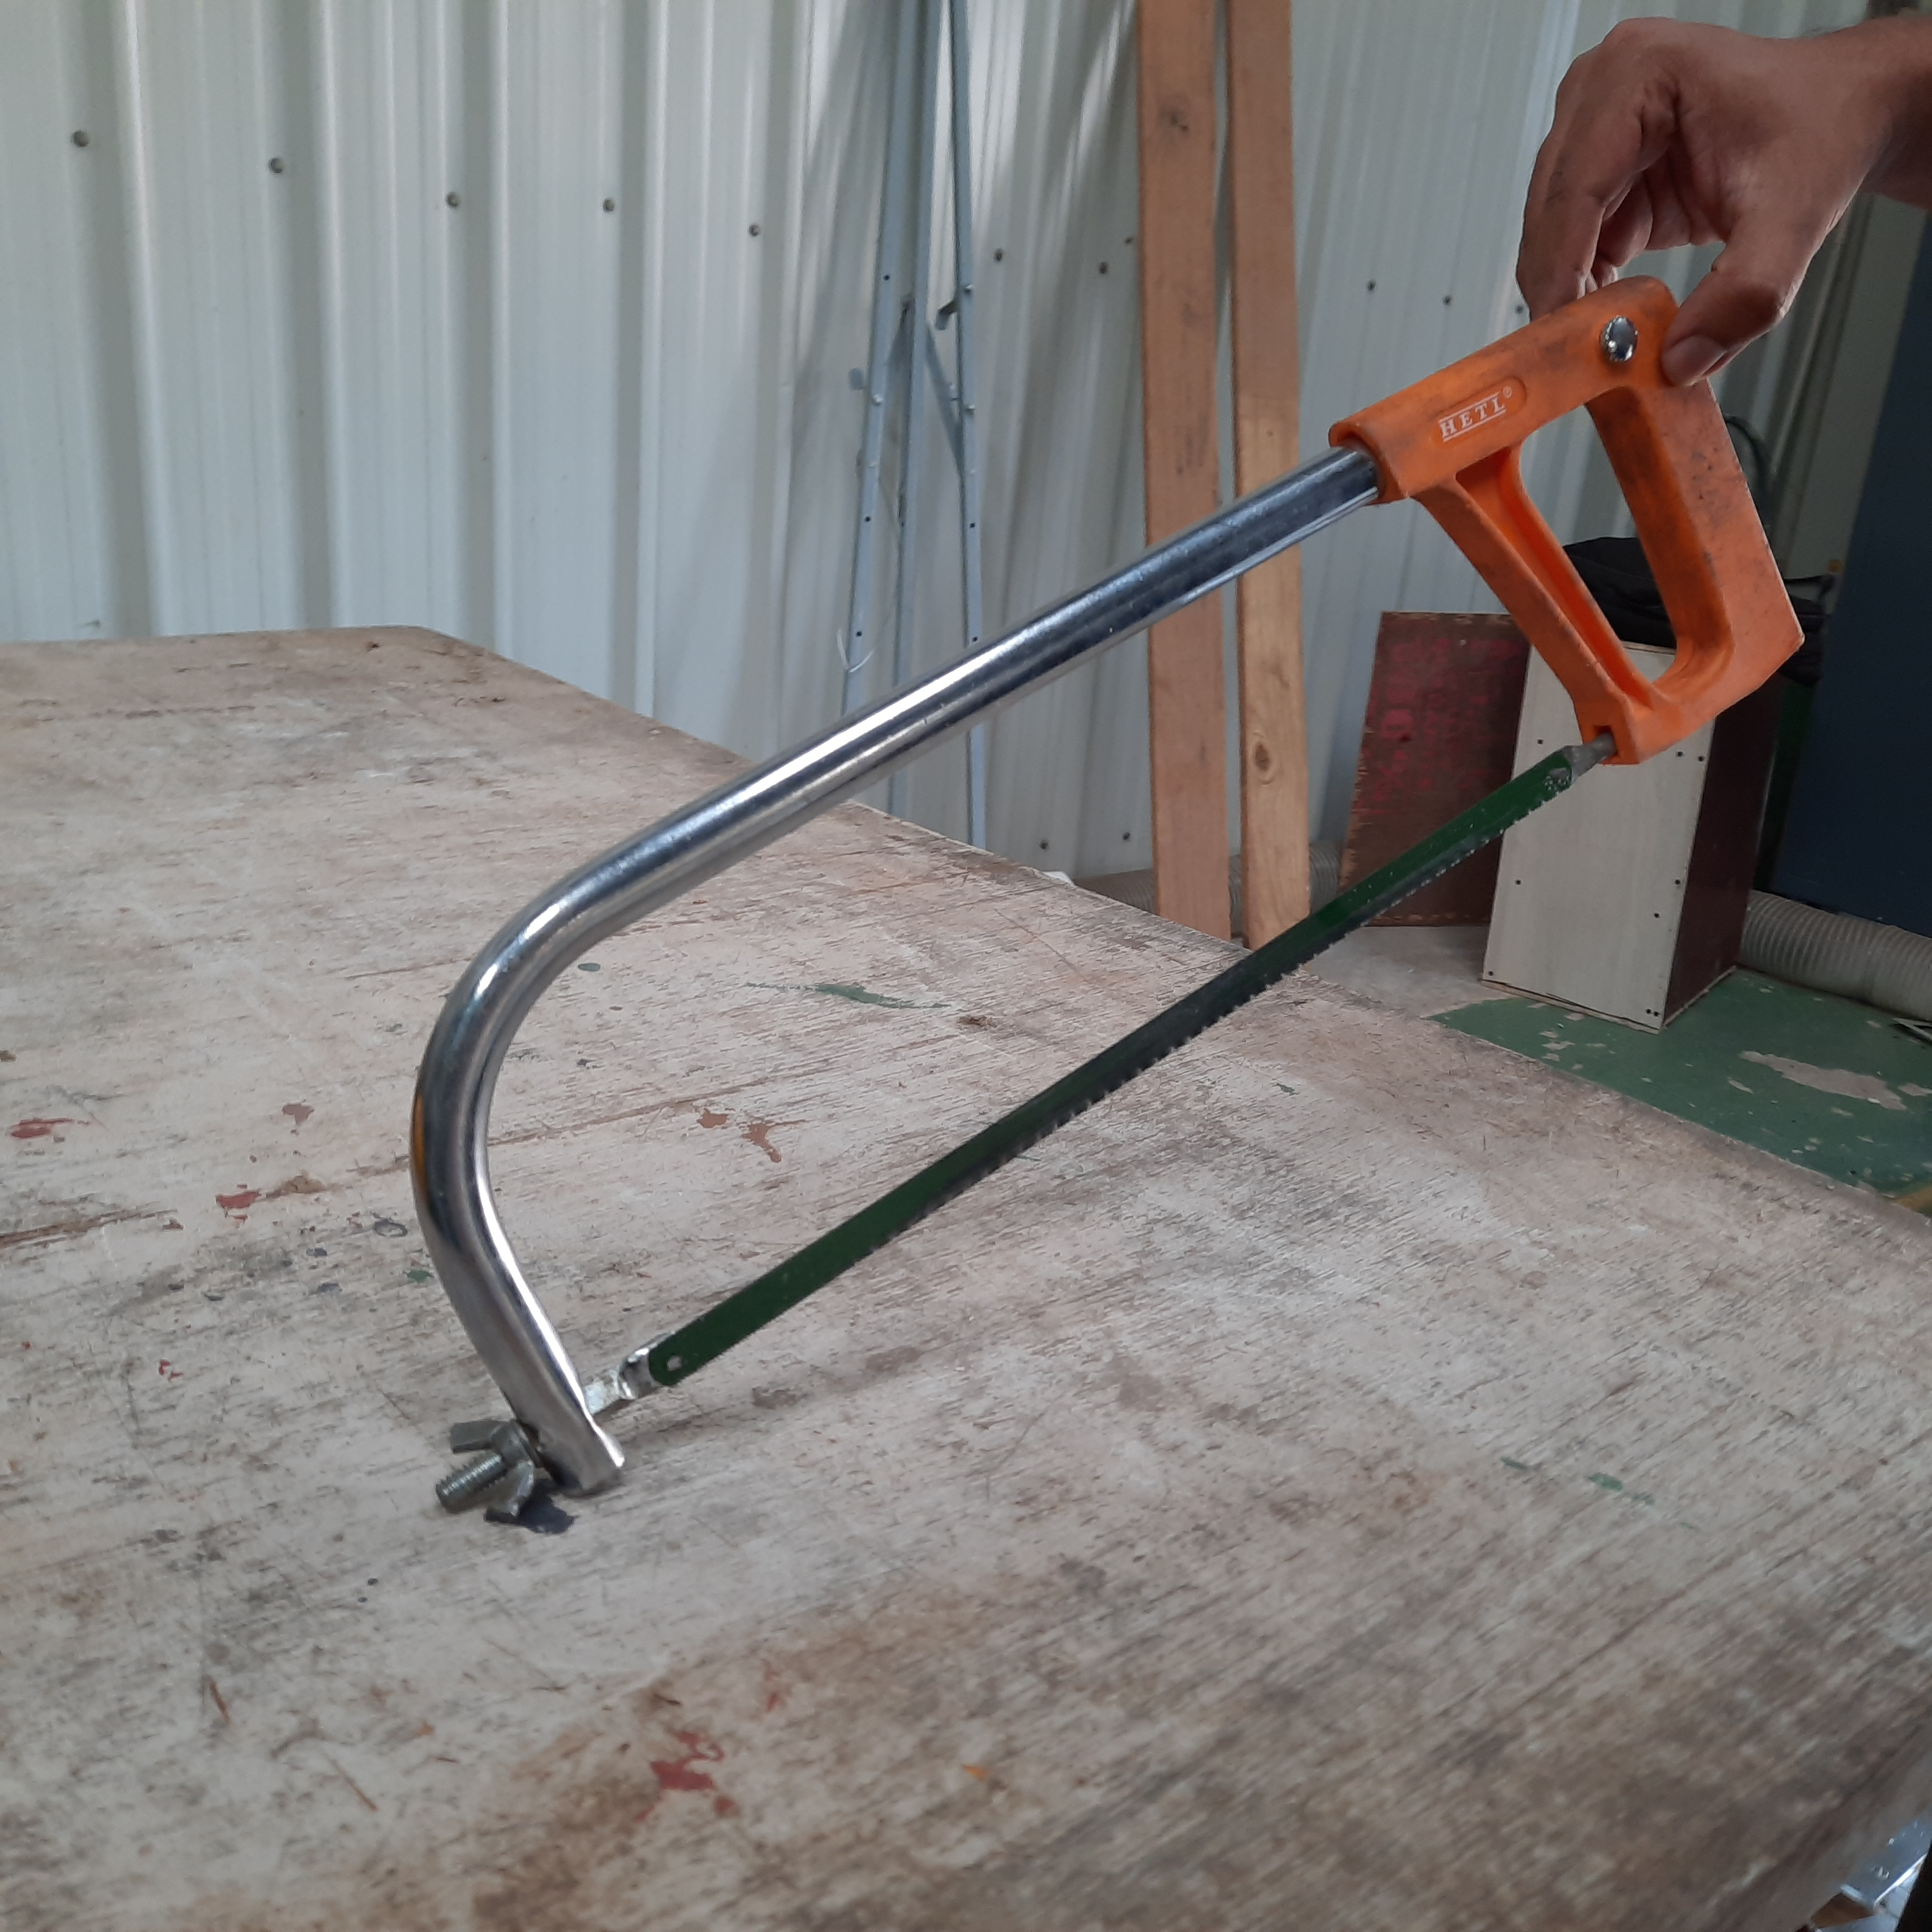Hexaframe: (356, 257, 1859, 1553)
